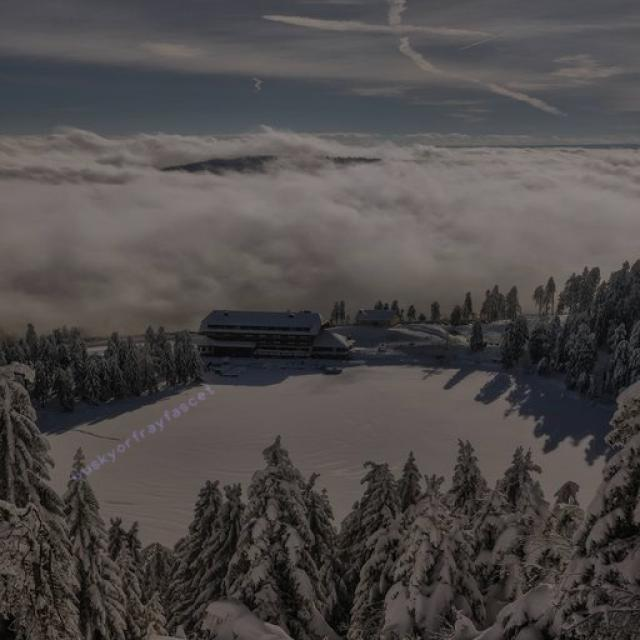watermark: (70, 378, 216, 485)
